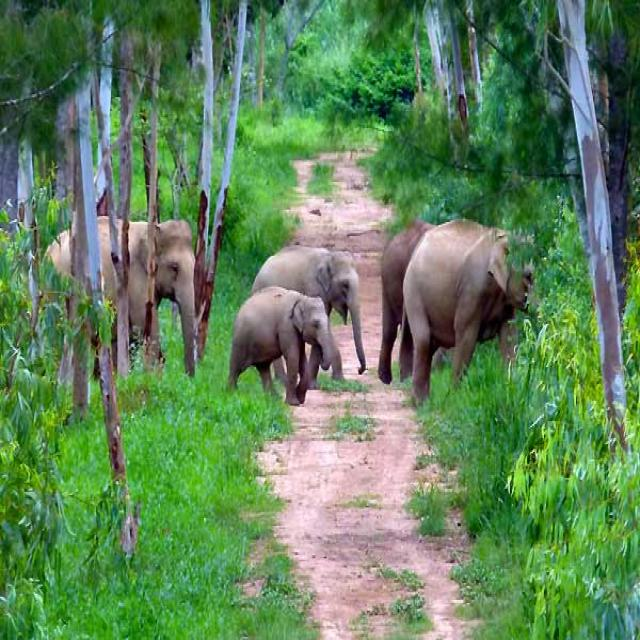Elephant: (51, 200, 202, 403), (383, 217, 541, 392), (254, 213, 372, 382), (230, 279, 346, 440)
